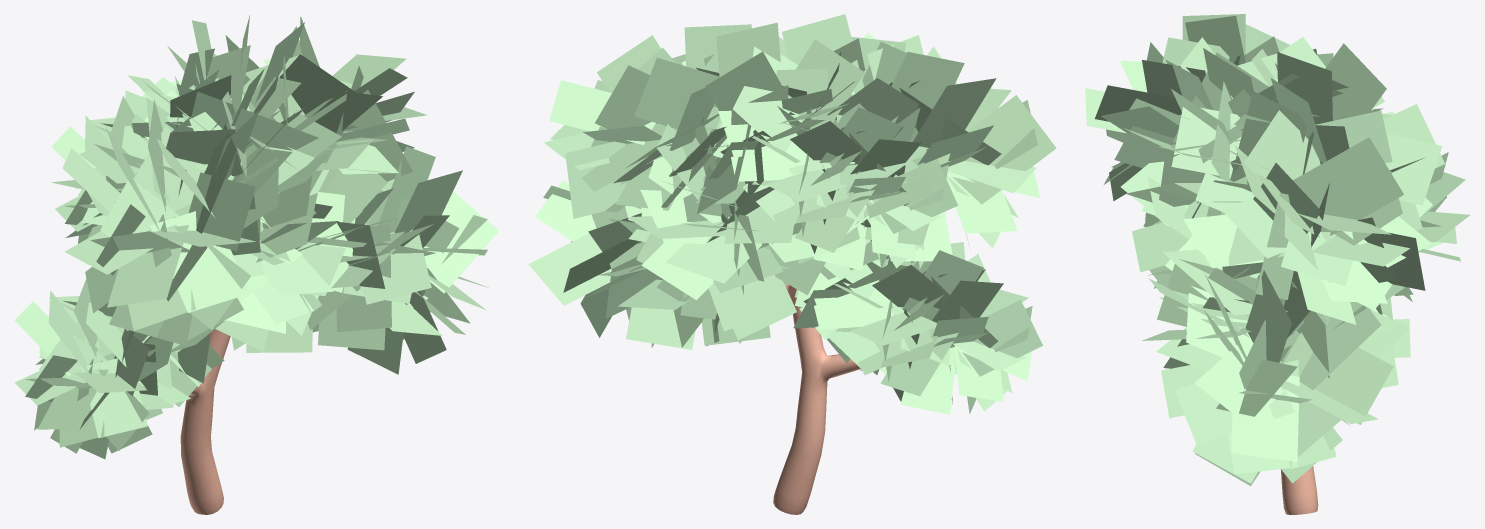
The model's file is tree_09.fbx.
3 views of the same model, side by side, from view 1: azimuth 30°, elevation 25°; view 2: azimuth 150°, elevation 25°; view 3: azimuth 270°, elevation 25° (orthographic).
Parts seen in each view (by area): view 1: Tree_09; view 2: Tree_09; view 3: Tree_09.
Part boxes in pixels (x1,y1,x2,y2): Tree_09: (14,15,498,514); Tree_09: (528,14,1056,514); Tree_09: (1085,14,1469,514).
Bounding box in the file's own units: 864 × 802 × 589.
